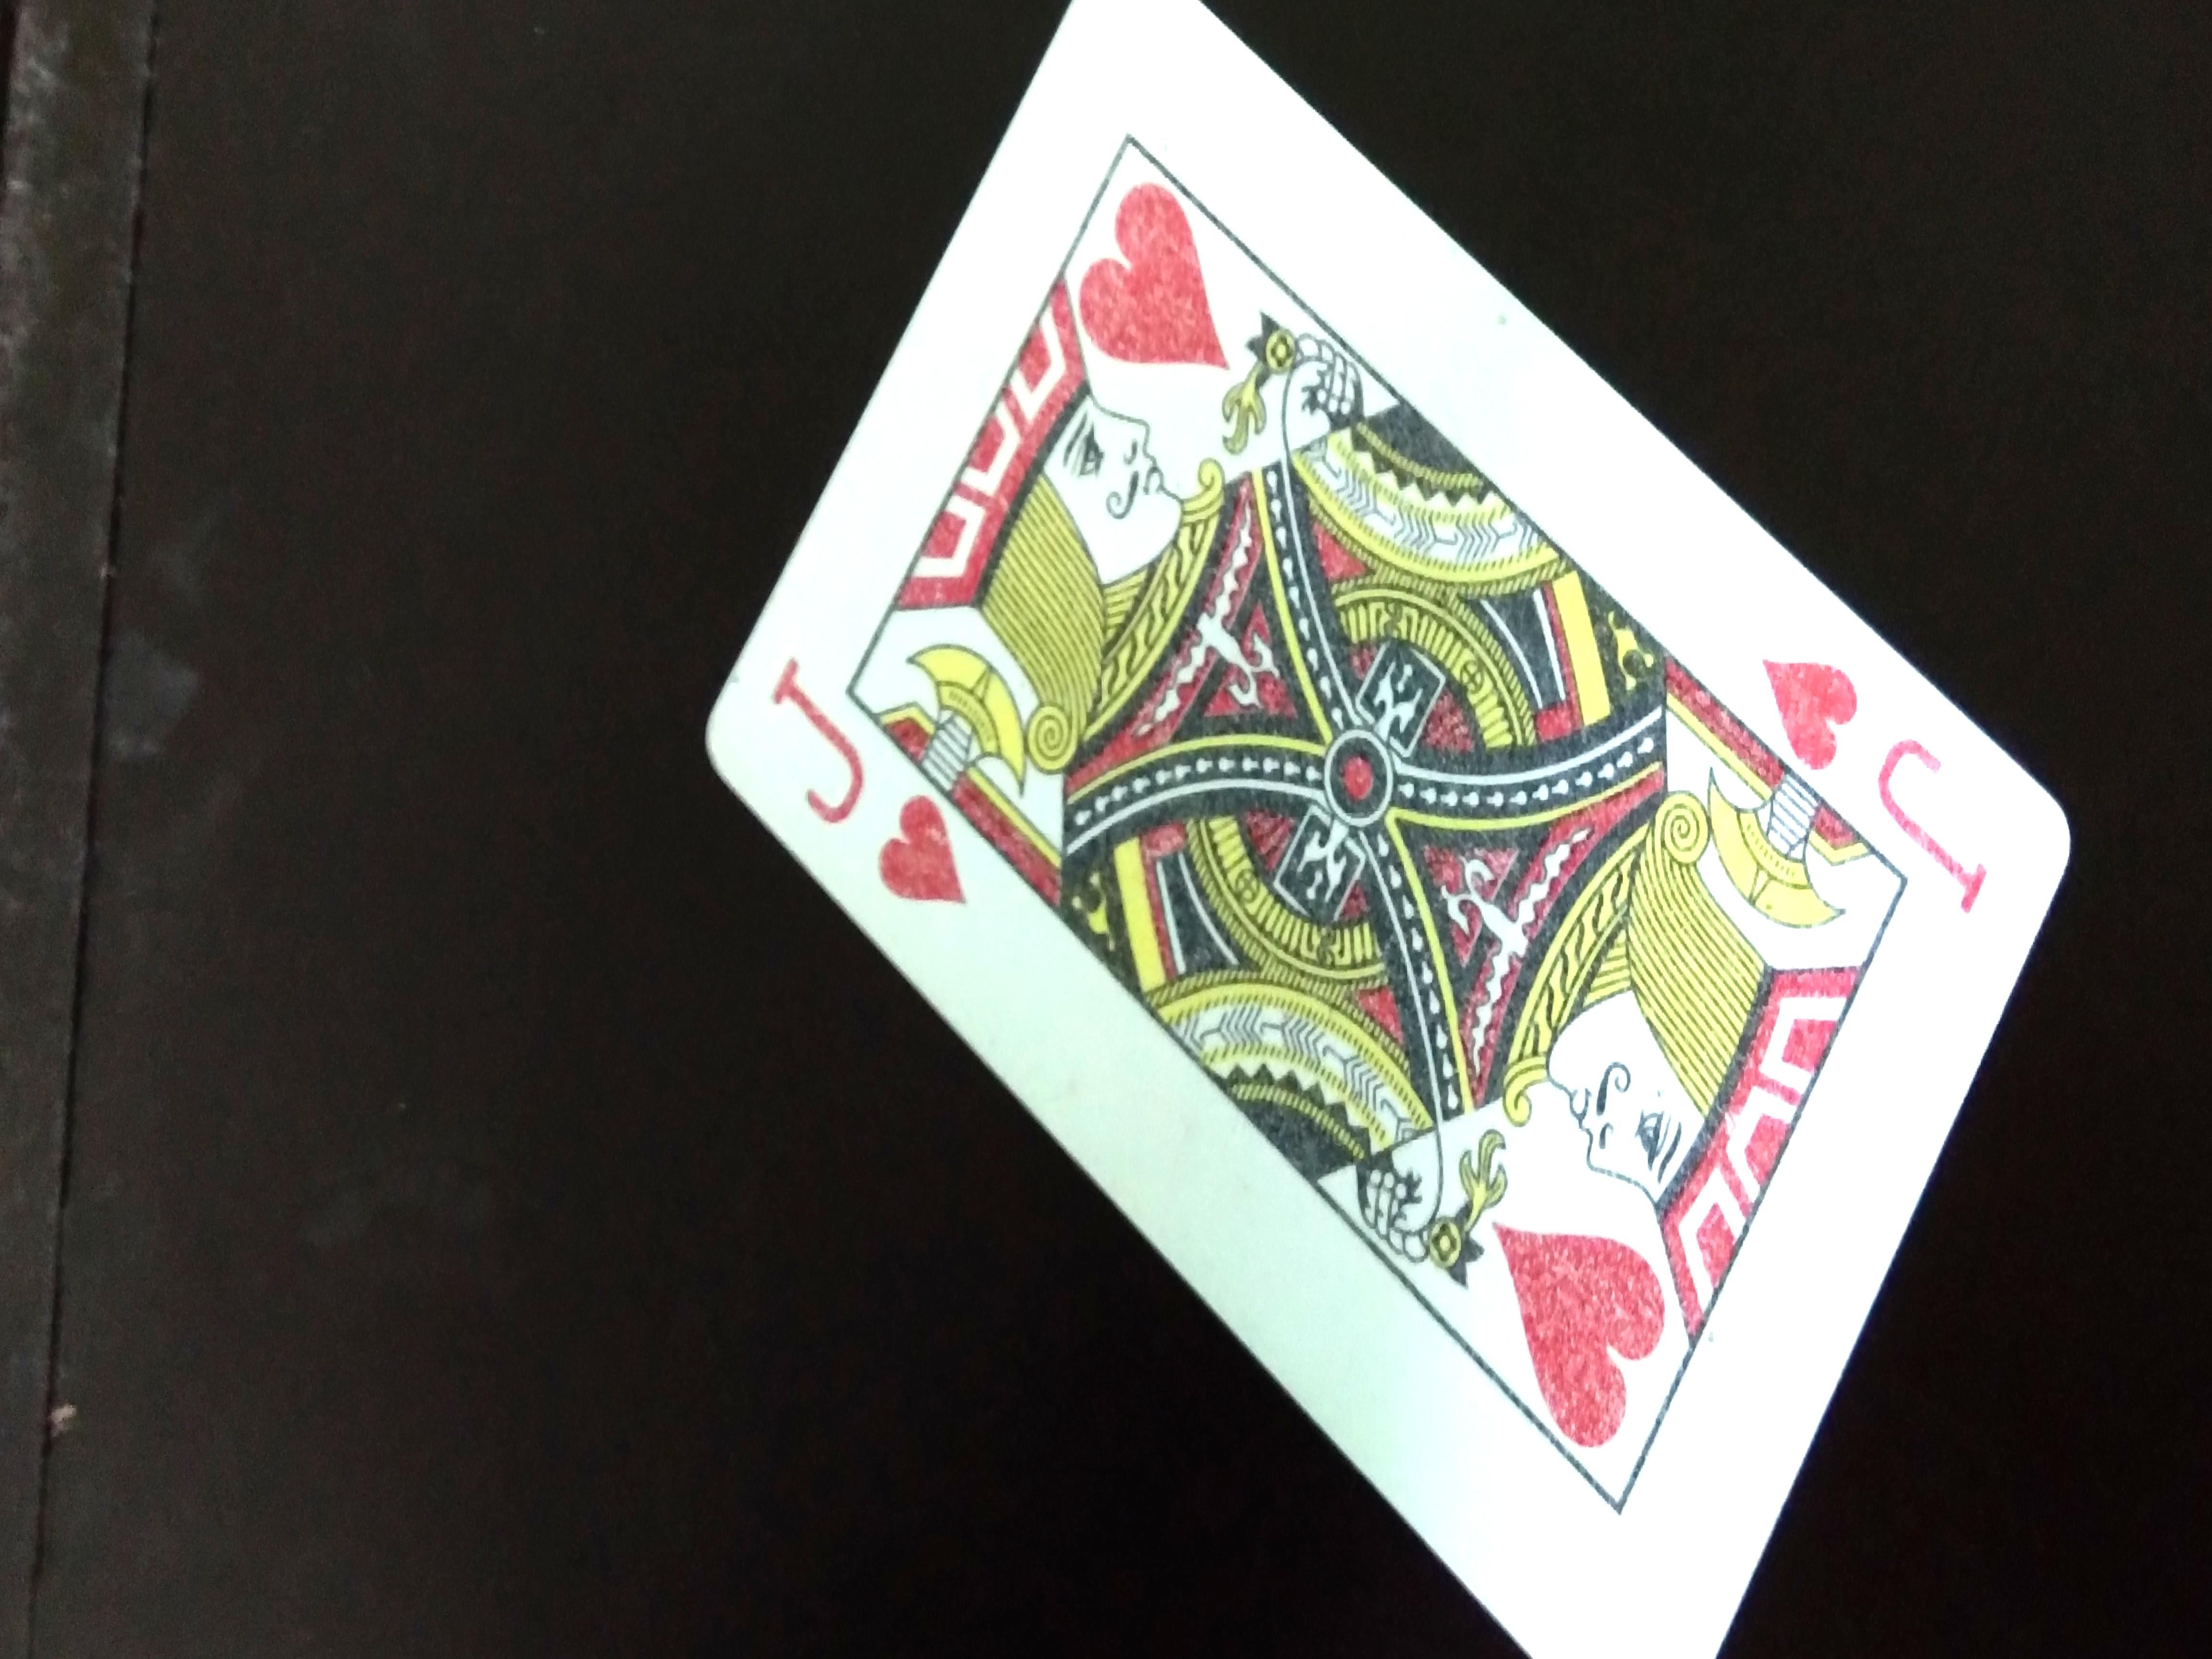JH: (1752, 626, 2020, 906)
